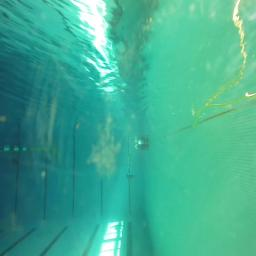Full: (137, 142, 149, 151), (126, 173, 134, 178)
